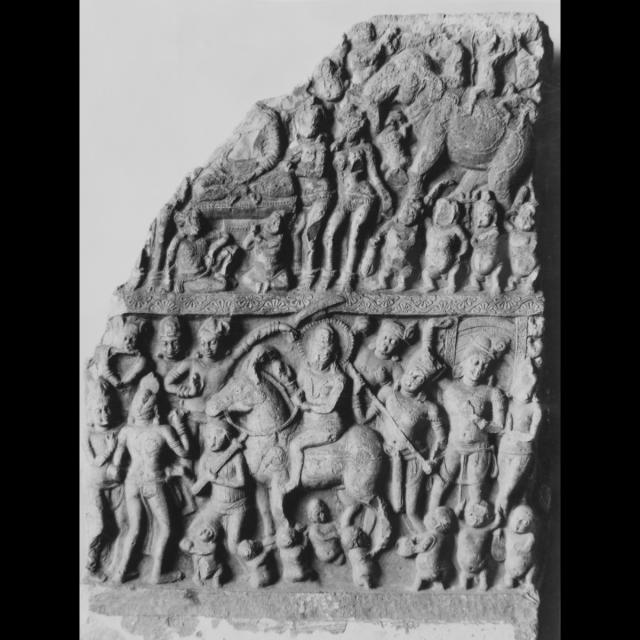buddha-horse-riding: (201, 310, 394, 565)
